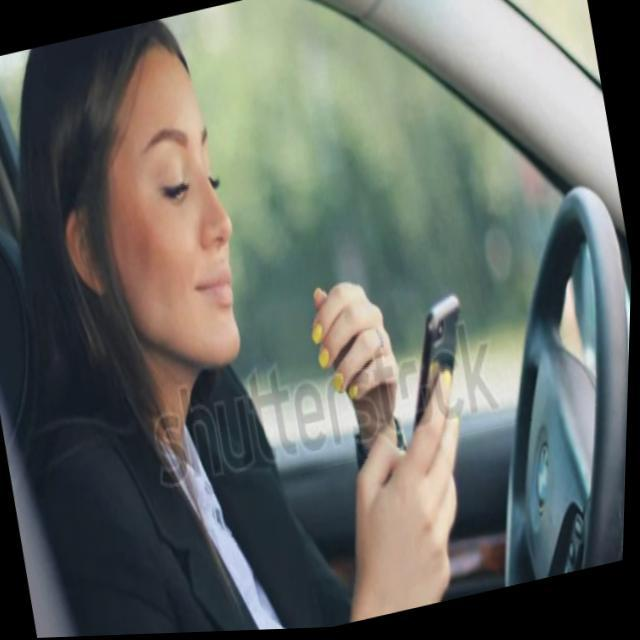PhoneCall: (386, 299, 488, 457)
